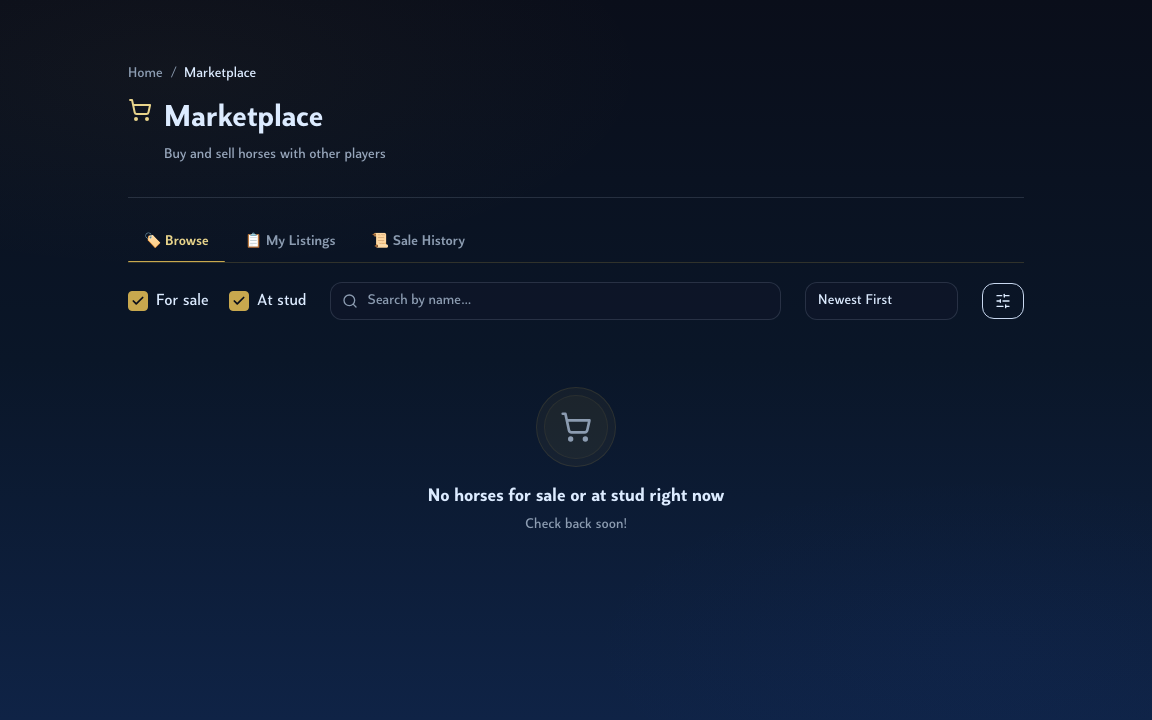
Test case: HorseMarketplacePage — My Listings / Sale History tabs (Equoria-o5hub.30) › Sale History tab shows an honest empty state when there is no history
Click the tab with test id "tab-history": (418, 242) 356,222 -> 481,262
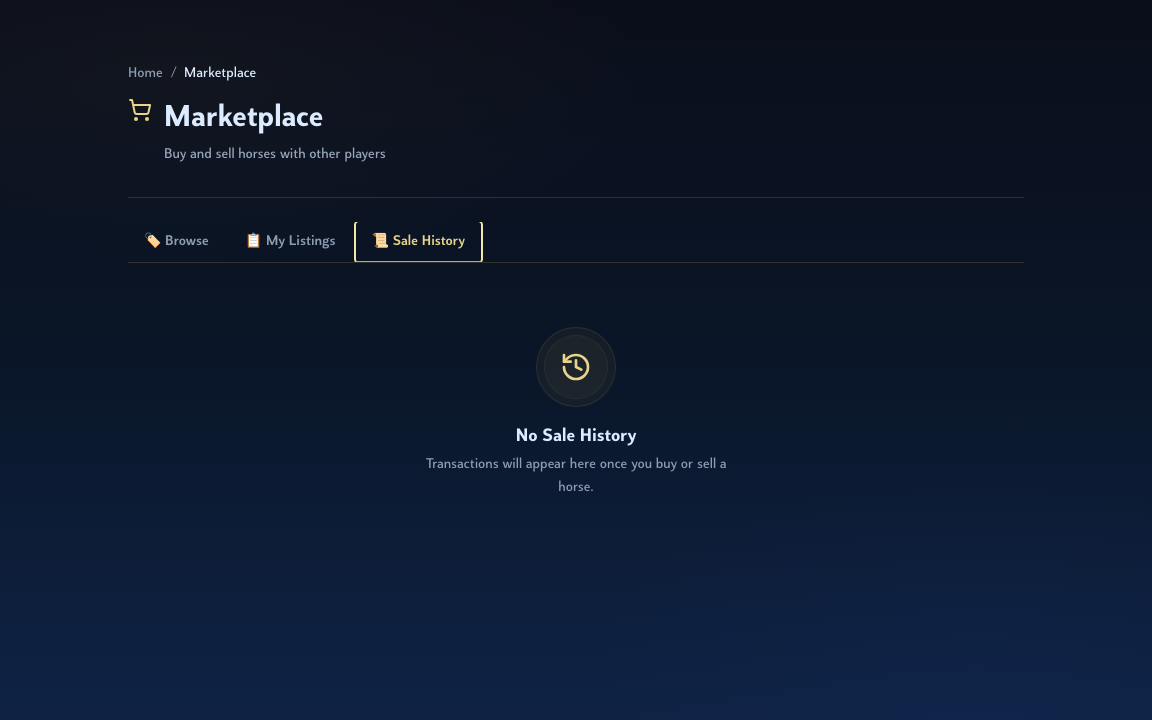
expect the heading "No Sale History" is shown: met, box 516,423 -> 636,450
